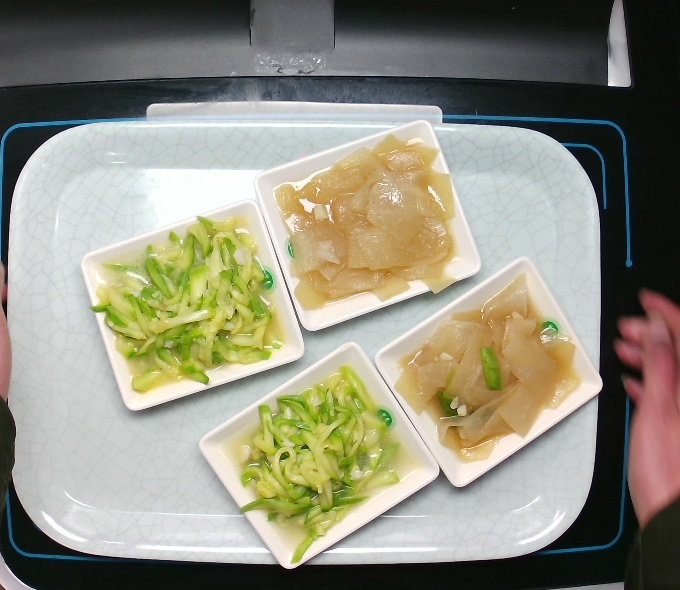wcq-LuoBo: (393, 277, 581, 460), (274, 130, 461, 305)
wcq-NenNanGua: (238, 369, 398, 537), (107, 230, 274, 384)
